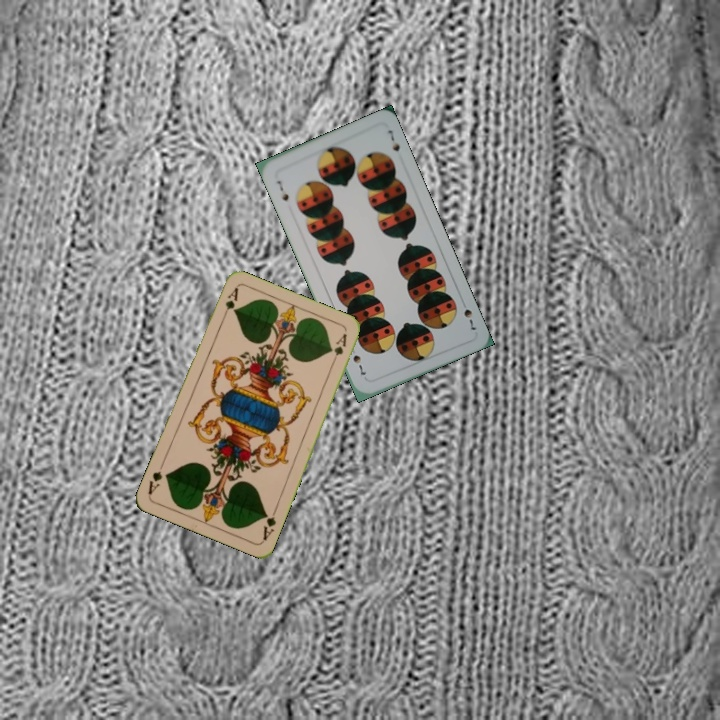GA: (218, 284, 241, 323), (259, 504, 279, 543)
S7: (457, 296, 478, 333), (273, 176, 291, 204)
